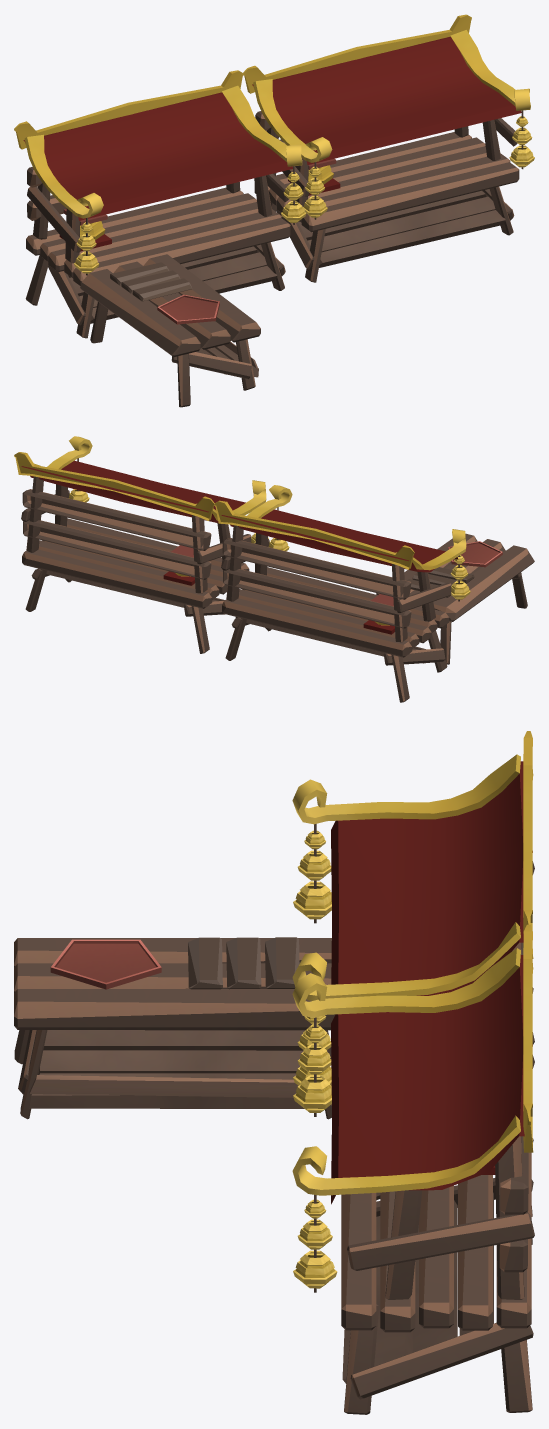
The model's file is shop_3lvl.fbx.
The picture shows the model from 3 angles, top to bottom: view 1: azimuth 30°, elevation 25°; view 2: azimuth 150°, elevation 25°; view 3: azimuth 270°, elevation 25°; orthographic projection. The views are drawn at different scales.
Visible parts, largest first — view 1: shop_3lvl; view 2: shop_3lvl; view 3: shop_3lvl.
Part boxes in pixels (x1,y1,x2,y2): shop_3lvl: (14,14,534,407); shop_3lvl: (14,436,534,702); shop_3lvl: (14,731,534,1414).
Bounding box in the file's own units: 6.46 × 2.44 × 3.67.
